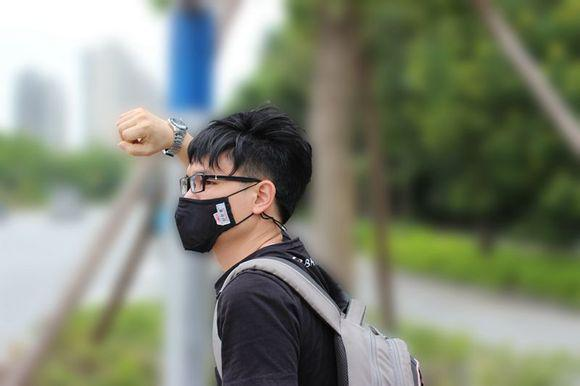WRONG: (175, 169, 252, 257)
